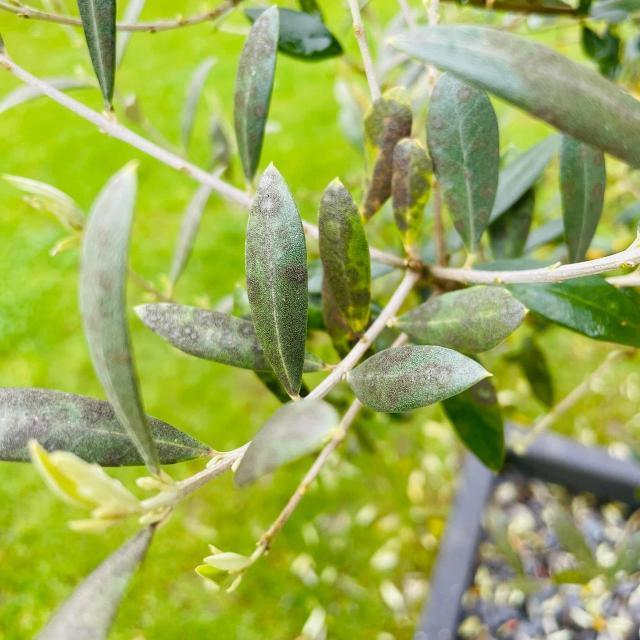OlivePeacockSpot: (245, 163, 308, 394), (427, 73, 499, 249), (362, 88, 432, 236), (347, 346, 489, 412), (134, 303, 270, 371), (318, 178, 372, 348), (234, 6, 280, 178)
